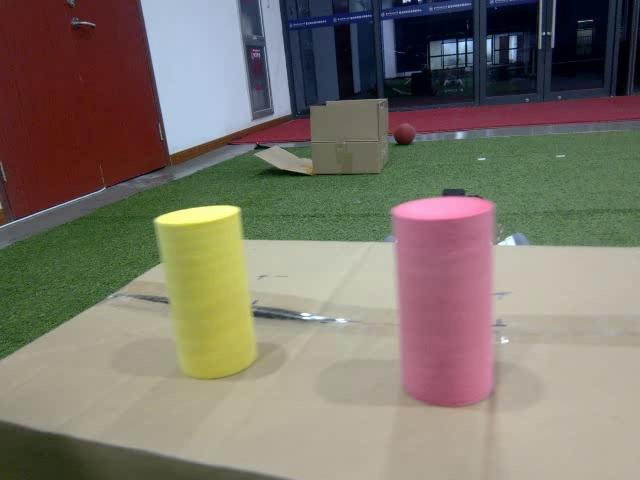red_ball: (394, 124, 417, 146)
red_cylinder: (387, 196, 497, 408)
yellow_cylinder: (154, 204, 262, 380)
